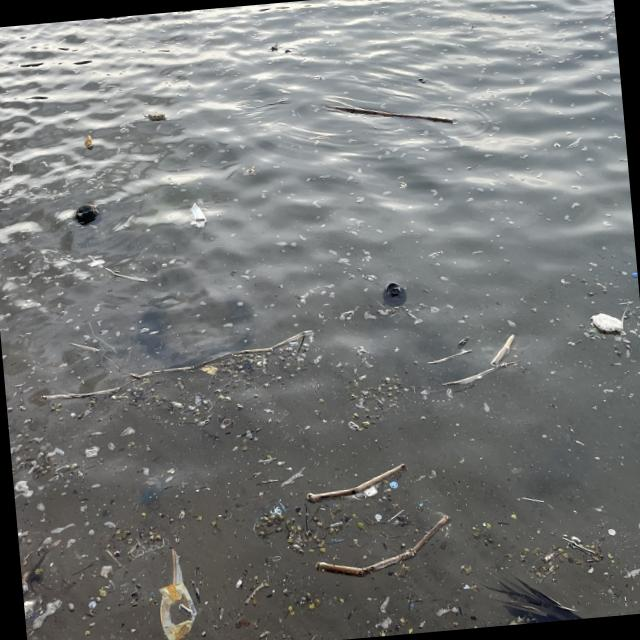foam: (592, 312, 626, 335), (191, 202, 207, 223), (148, 111, 167, 121)
